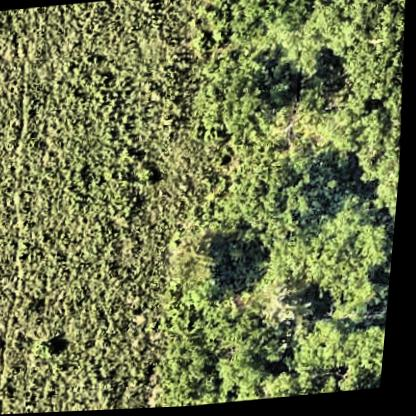tree-top: (286, 201, 400, 317), (240, 148, 350, 243), (299, 317, 393, 392), (215, 74, 283, 145), (164, 335, 231, 405), (214, 333, 287, 395), (172, 235, 233, 300), (346, 102, 406, 168), (229, 0, 307, 49), (307, 0, 390, 44), (346, 46, 407, 103)
